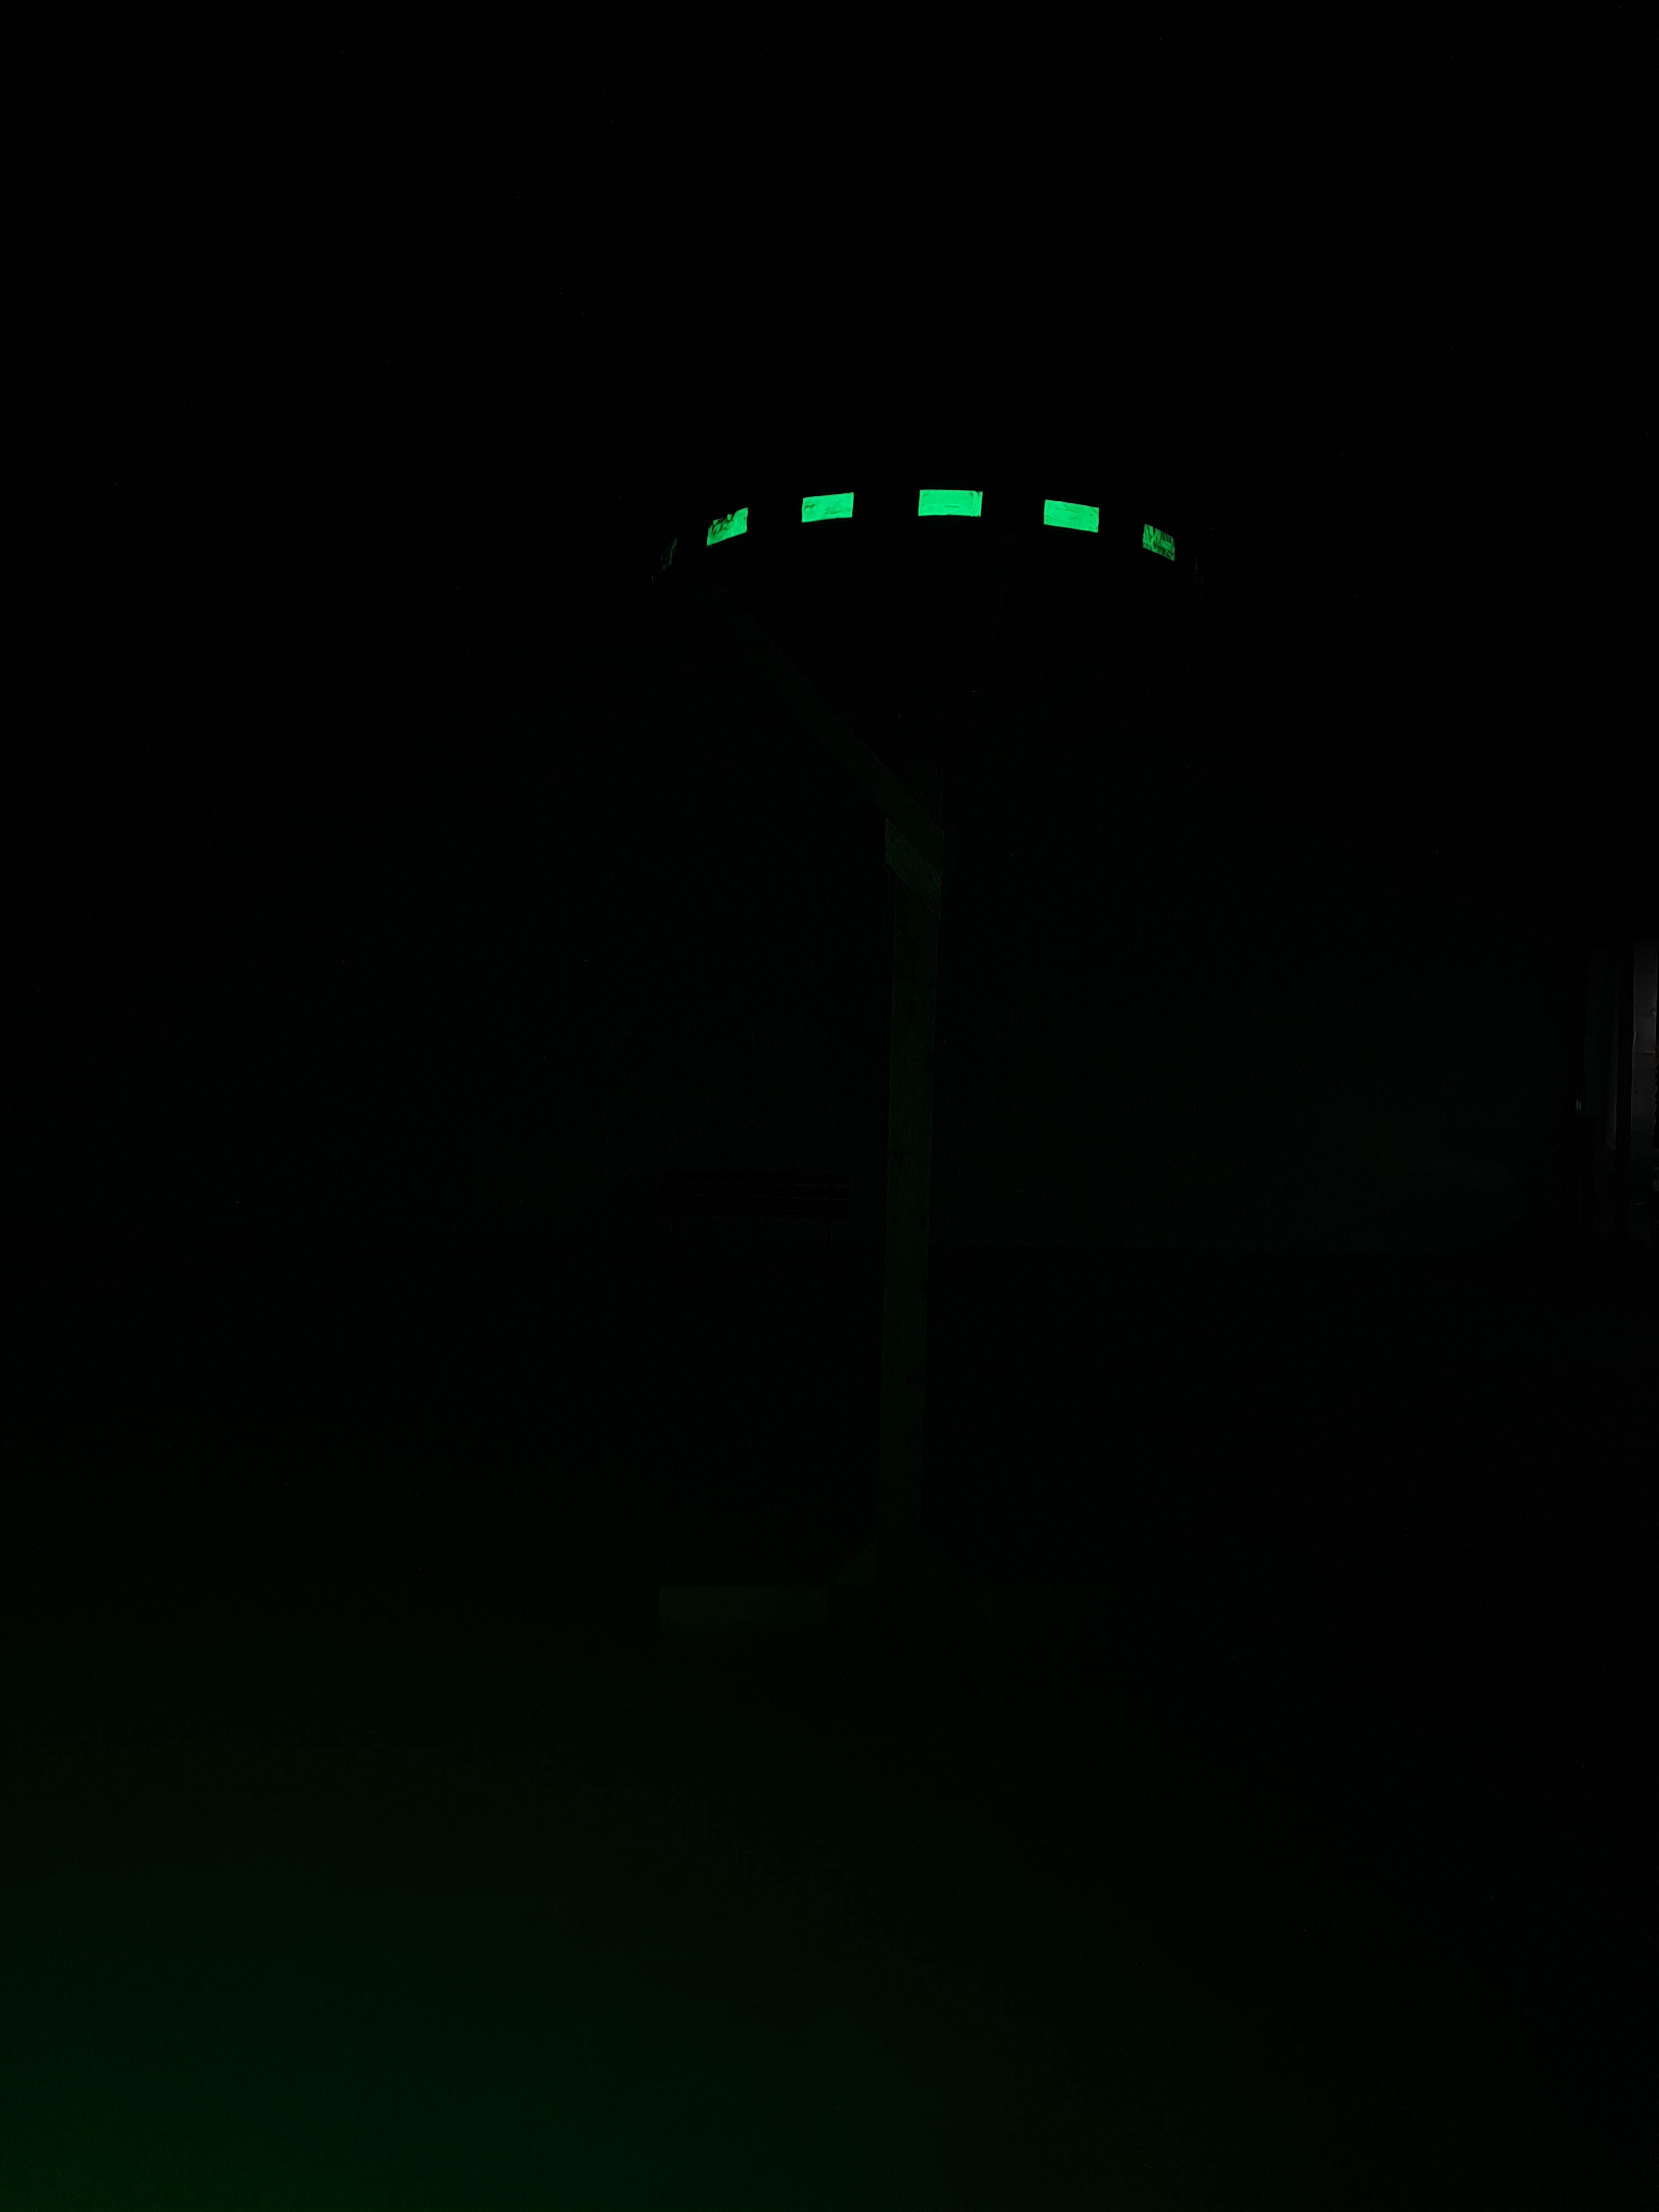hoop: (702, 488, 1178, 563)
